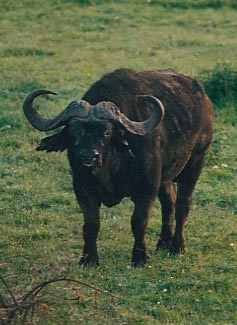buffalo: (21, 67, 213, 268)
